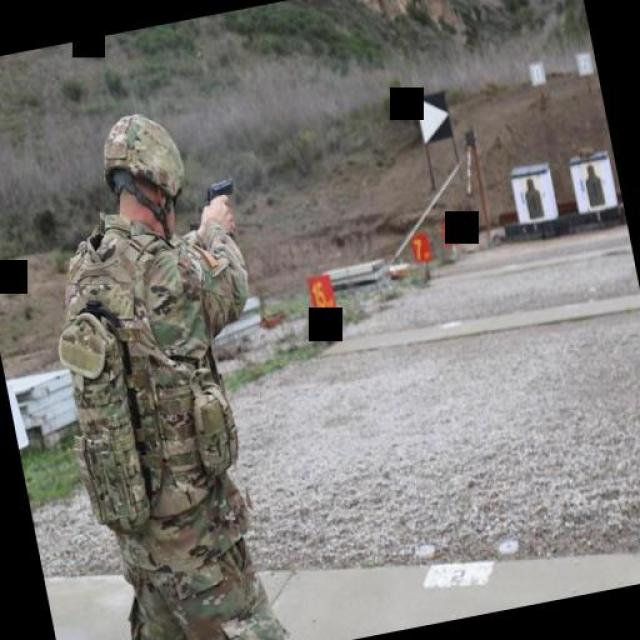gun: (200, 171, 240, 220)
